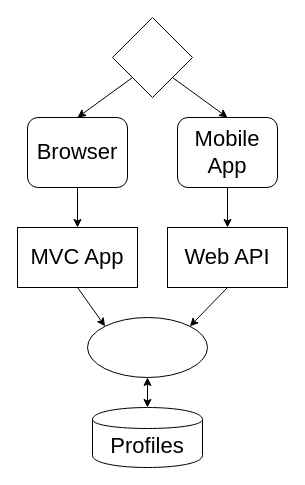
The diagram is 305 pixels wide and 485 high, and some of its shapes have lost their labels. The shapes that lost their labels are listed below. From the top down, each one's box as (x1, y1, x2, y2) in pixels, then its label:
(112, 16, 192, 98): User
(86, 316, 208, 378): Service
